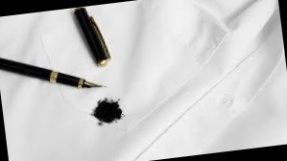ink: (91, 97, 125, 123)
